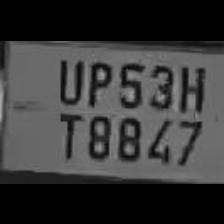3: (145, 59, 175, 109)
4: (143, 111, 173, 163)
5: (113, 57, 145, 105)
7: (170, 112, 202, 166)
8: (83, 108, 111, 160), (113, 109, 141, 161)
H: (174, 58, 206, 111)
P: (83, 55, 113, 105)
T: (51, 107, 83, 159)
U: (52, 52, 84, 104)
